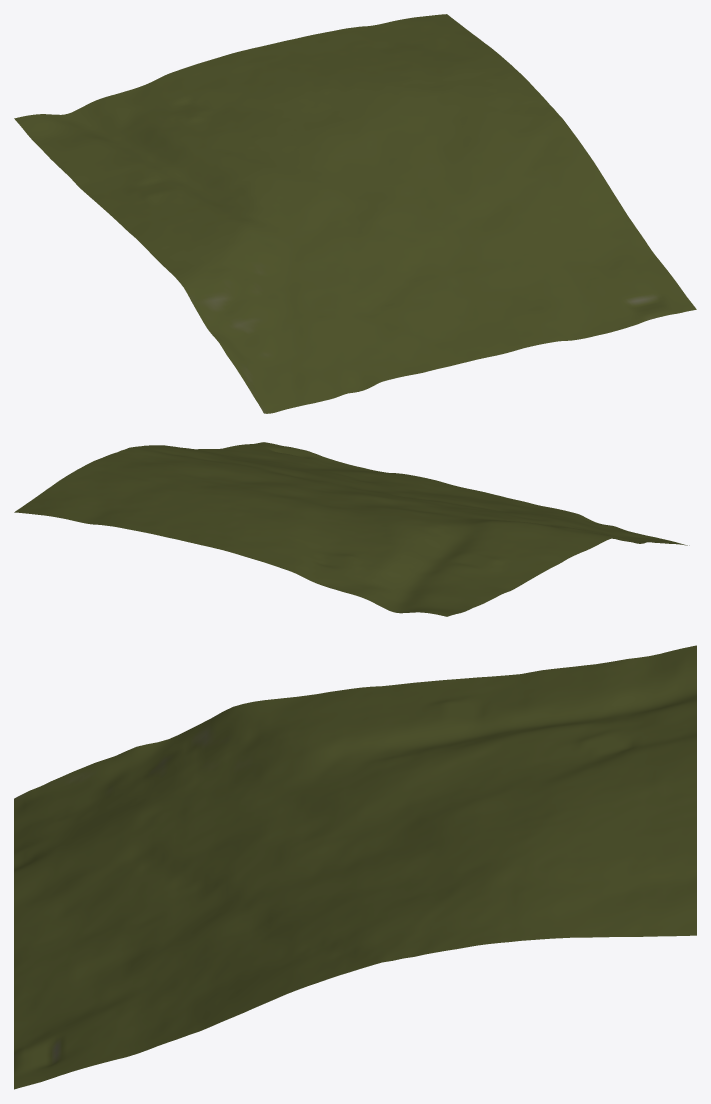
Rendered from terrain_14_-12.glb.
3 renders of one model, top to bottom at view 1: azimuth 30°, elevation 25°; view 2: azimuth 150°, elevation 25°; view 3: azimuth 270°, elevation 25°, orthographic. The views are drawn at different scales.
Visible parts, largest first — view 1: terrain_14_-12; view 2: terrain_14_-12; view 3: terrain_14_-12.
Boxes of the visible parts, left/top/right/bottom form: terrain_14_-12: left=14, top=14, right=696, bottom=413; terrain_14_-12: left=14, top=442, right=689, bottom=616; terrain_14_-12: left=14, top=645, right=696, bottom=1089.
Bounding box in the file's own units: 256 × 72.05 × 256.
